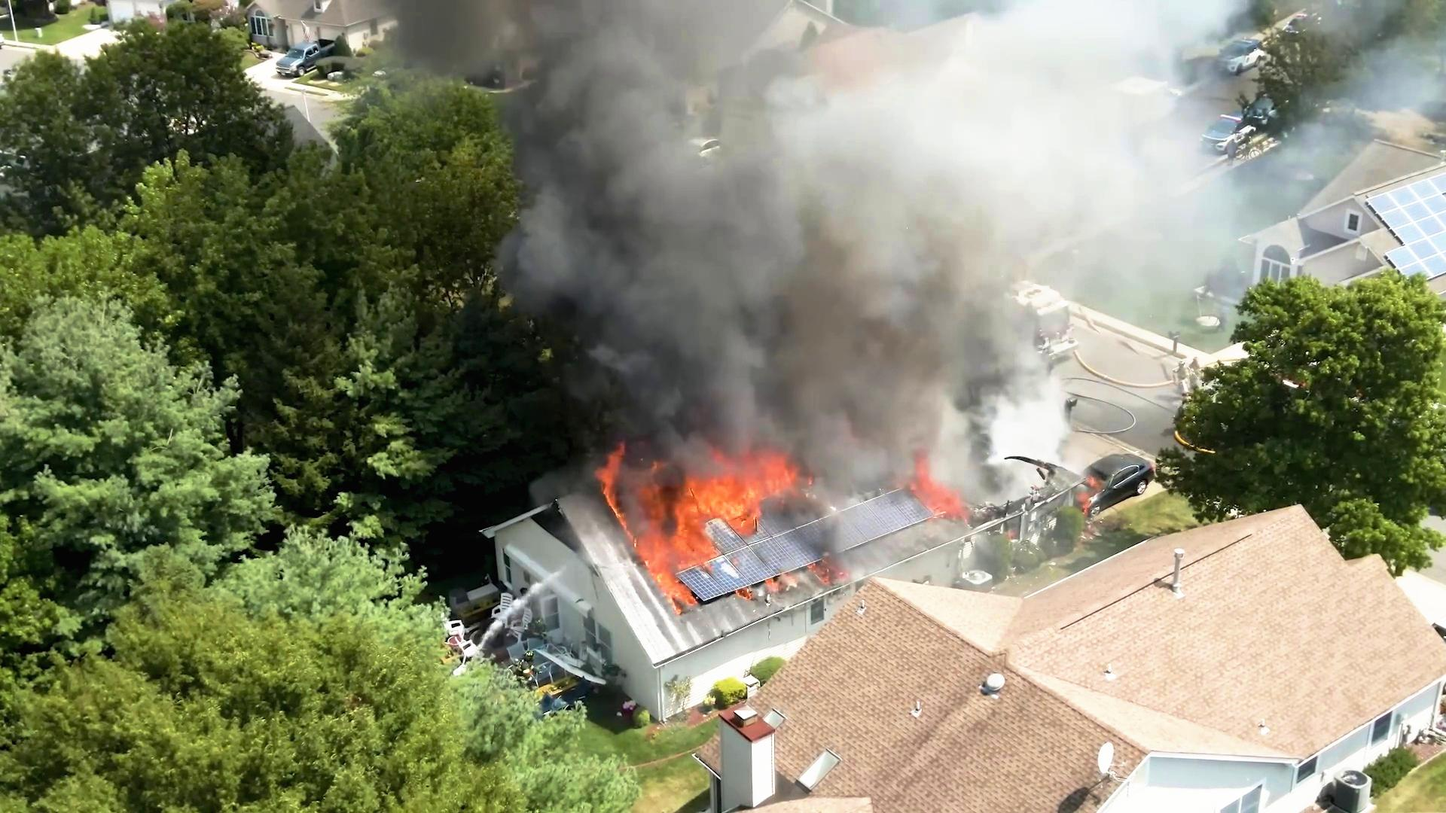fire: (607, 446, 807, 592)
smoke: (616, 158, 882, 446)
